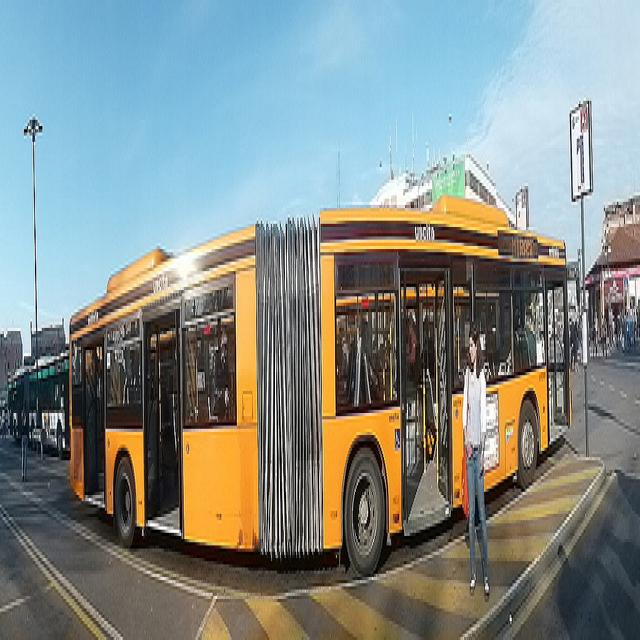AB: (62, 196, 580, 590)
